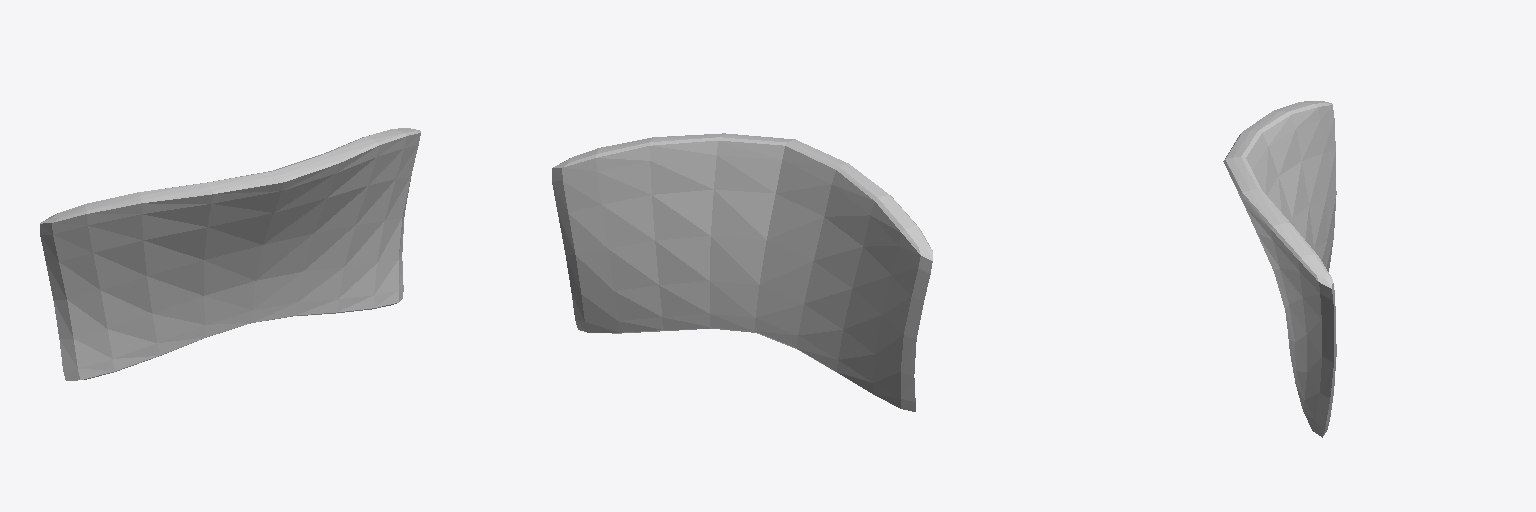
File: Connective.Ligaments.Capsula_articularis_membrana_fibrosa_R.256.obj
3 views of the same model, side by side, from view 1: azimuth 30°, elevation 25°; view 2: azimuth 150°, elevation 25°; view 3: azimuth 270°, elevation 25° (orthographic).
Parts seen in each view (by area): view 1: Connective:Ligaments:Capsula_articularis_membrana_fibrosa_R.256_; view 2: Connective:Ligaments:Capsula_articularis_membrana_fibrosa_R.256_; view 3: Connective:Ligaments:Capsula_articularis_membrana_fibrosa_R.256_.
Part boxes in pixels (left/top/right/bottom): Connective:Ligaments:Capsula_articularis_membrana_fibrosa_R.256_: left=40, top=128, right=420, bottom=380; Connective:Ligaments:Capsula_articularis_membrana_fibrosa_R.256_: left=552, top=133, right=932, bottom=411; Connective:Ligaments:Capsula_articularis_membrana_fibrosa_R.256_: left=1223, top=101, right=1336, bottom=437.
Size of the model in its own units: 0.1411 by 0.0703 by 0.0364.